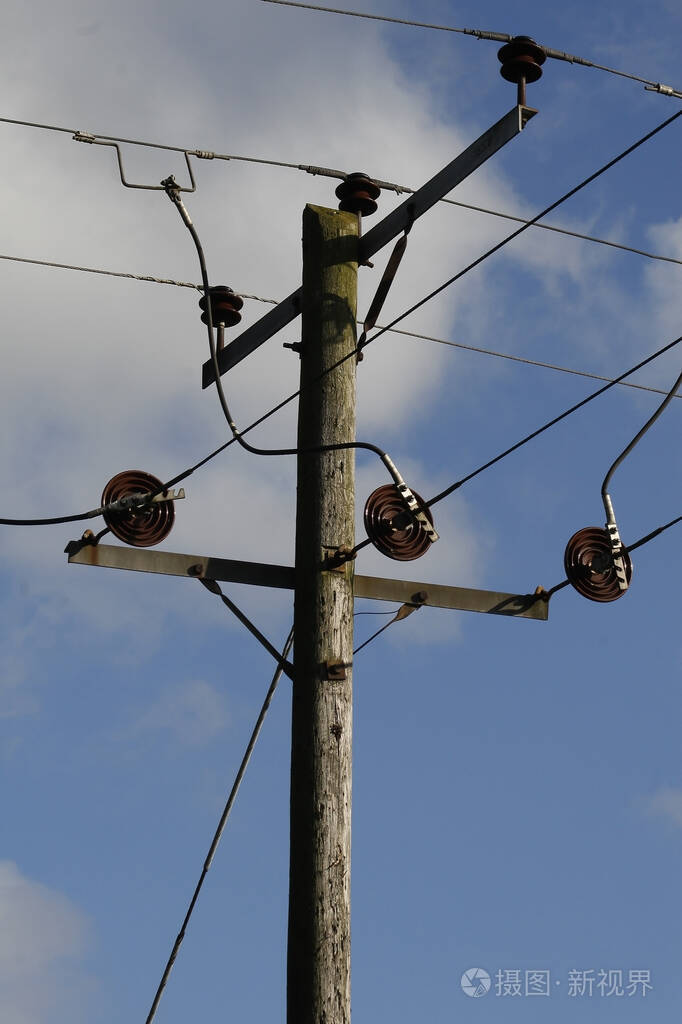insulator: (360, 482, 438, 561), (100, 470, 175, 549), (563, 528, 635, 603), (494, 35, 549, 83), (331, 172, 381, 218), (194, 285, 241, 329)
